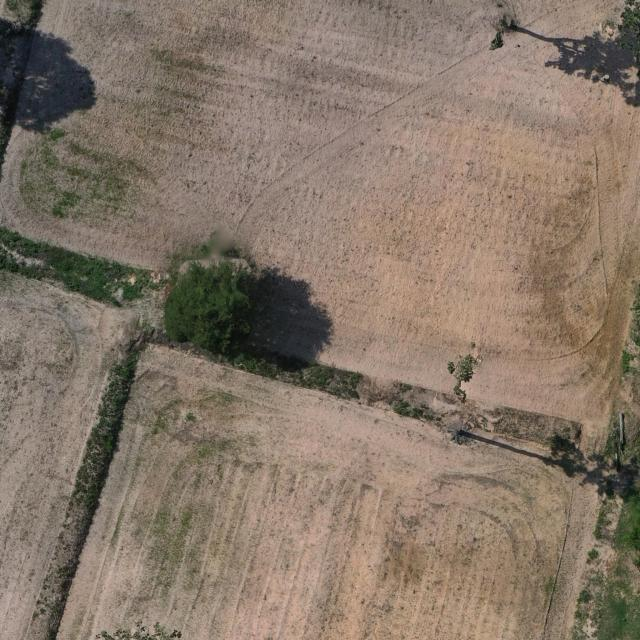tree: (163, 259, 263, 360)
